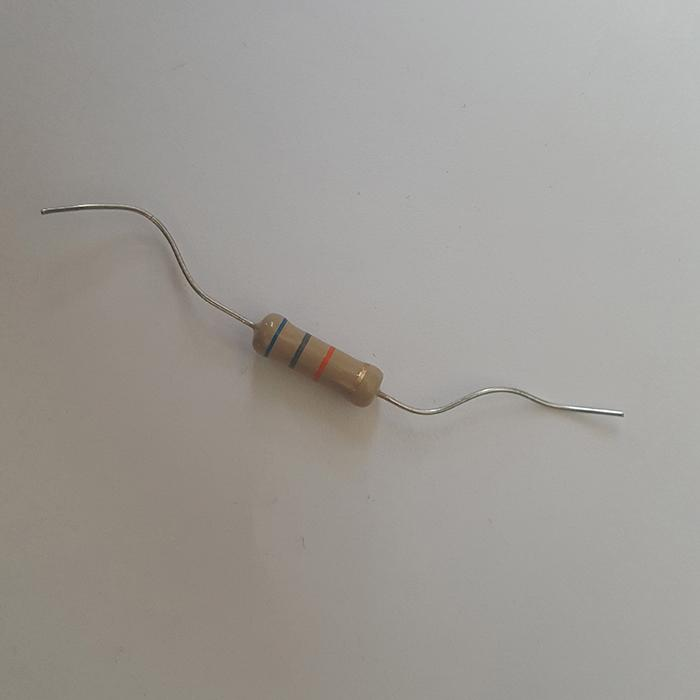resistor: (249, 311, 381, 406)
